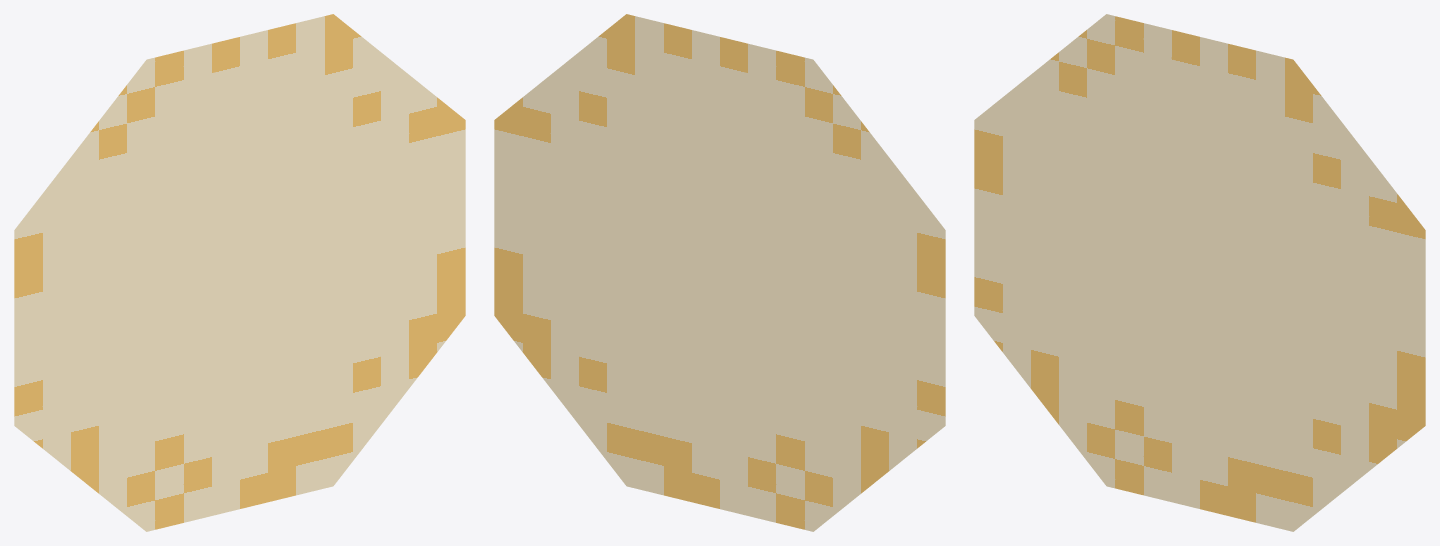
The model's file is wsky.sun.glb.
3 renders of one model, left to right at view 1: azimuth 30°, elevation 25°; view 2: azimuth 150°, elevation 25°; view 3: azimuth 330°, elevation 25°, orthographic.
Visible parts, largest first — view 1: kit_card_disc; view 2: kit_card_disc; view 3: kit_card_disc.
Boxes of the visible parts, x1,y1,x2,y2 form: kit_card_disc: (14, 14, 465, 531); kit_card_disc: (494, 14, 945, 531); kit_card_disc: (974, 14, 1425, 531).
Bounding box in the file's own units: 2.77 × 2.77 × 0.
1 material, 1 textured.
